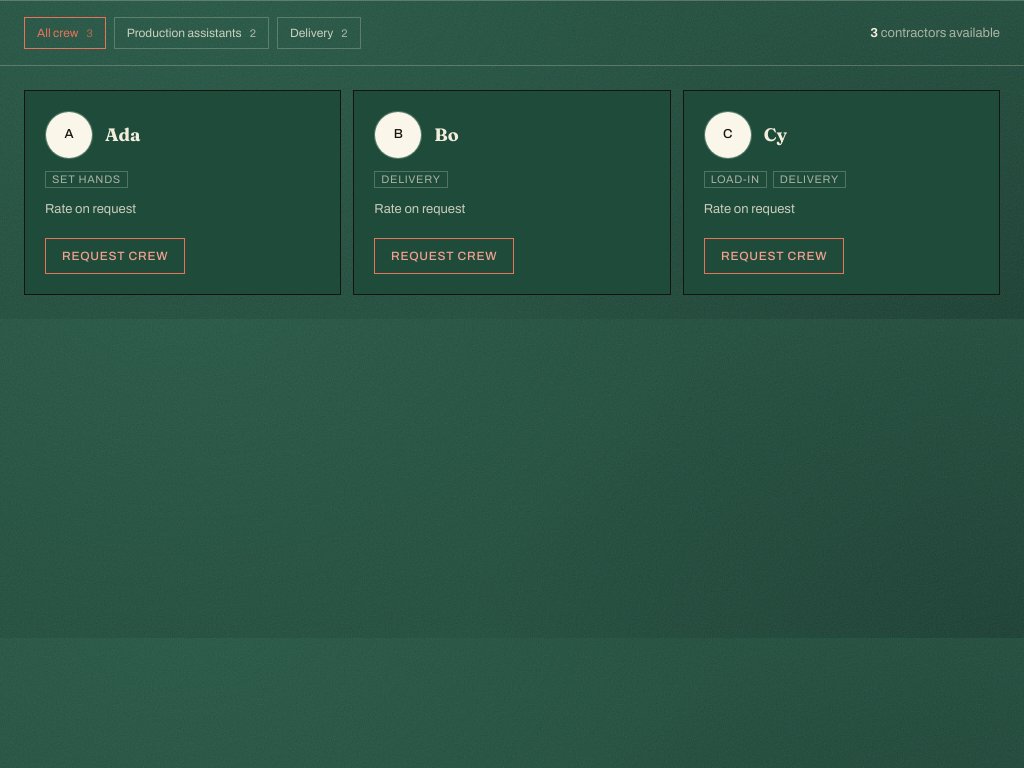
CrewDirectory › filters by role, names it in the count, and mirrors it to the URL
Step 1. Click the button "Delivery 2" → click(319, 33), box [277,17,360,49]
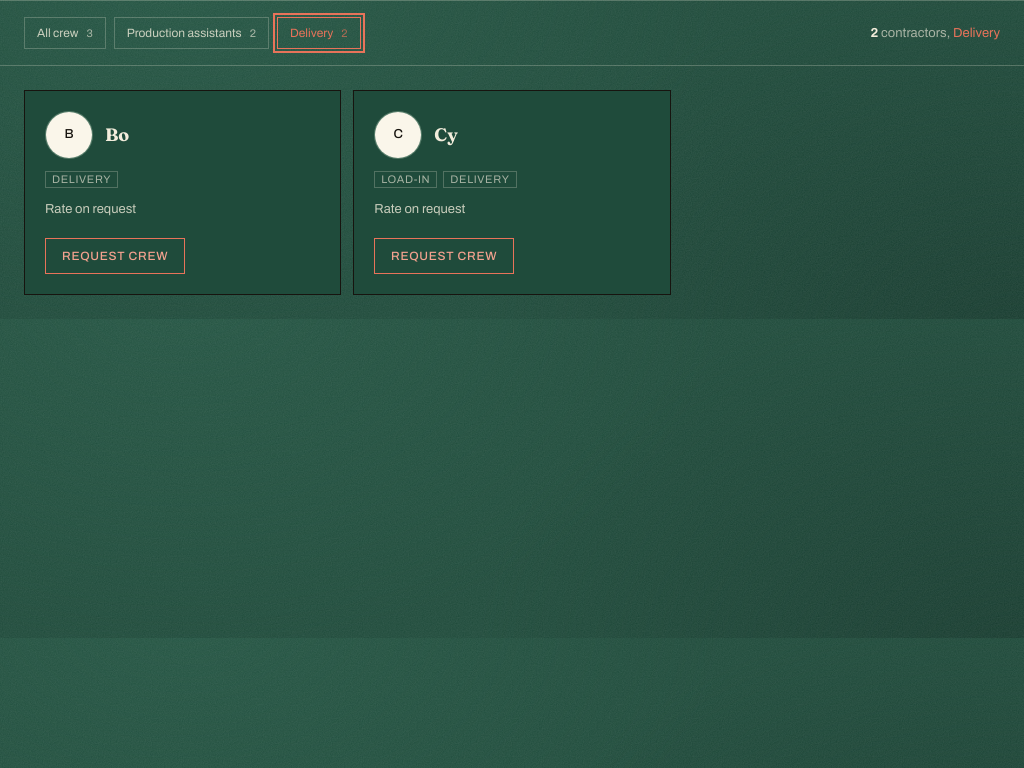
Now the text "2" reads "2 contractors, Delivery", box [871,24,1000,42]
Step 2. Click the button "Delivery 2" → click(319, 33), box [277,17,360,49]
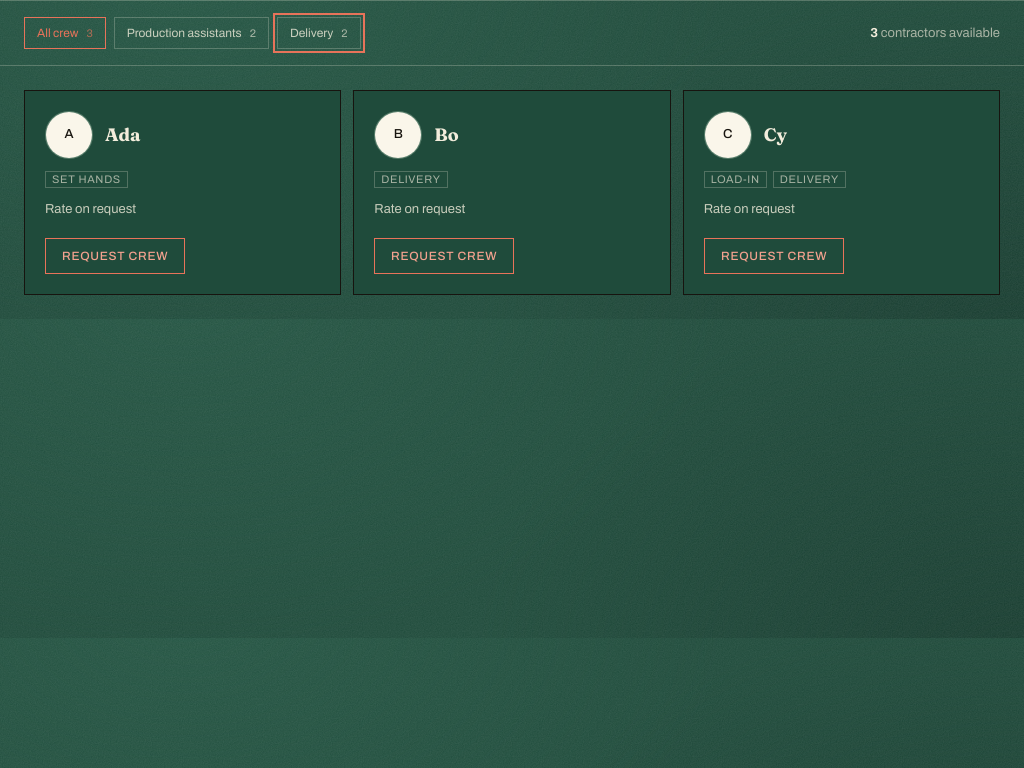
Now the number of buttons "Request crew" is 3, box [45,238,185,274]; [374,238,514,274]; [704,238,844,274]
